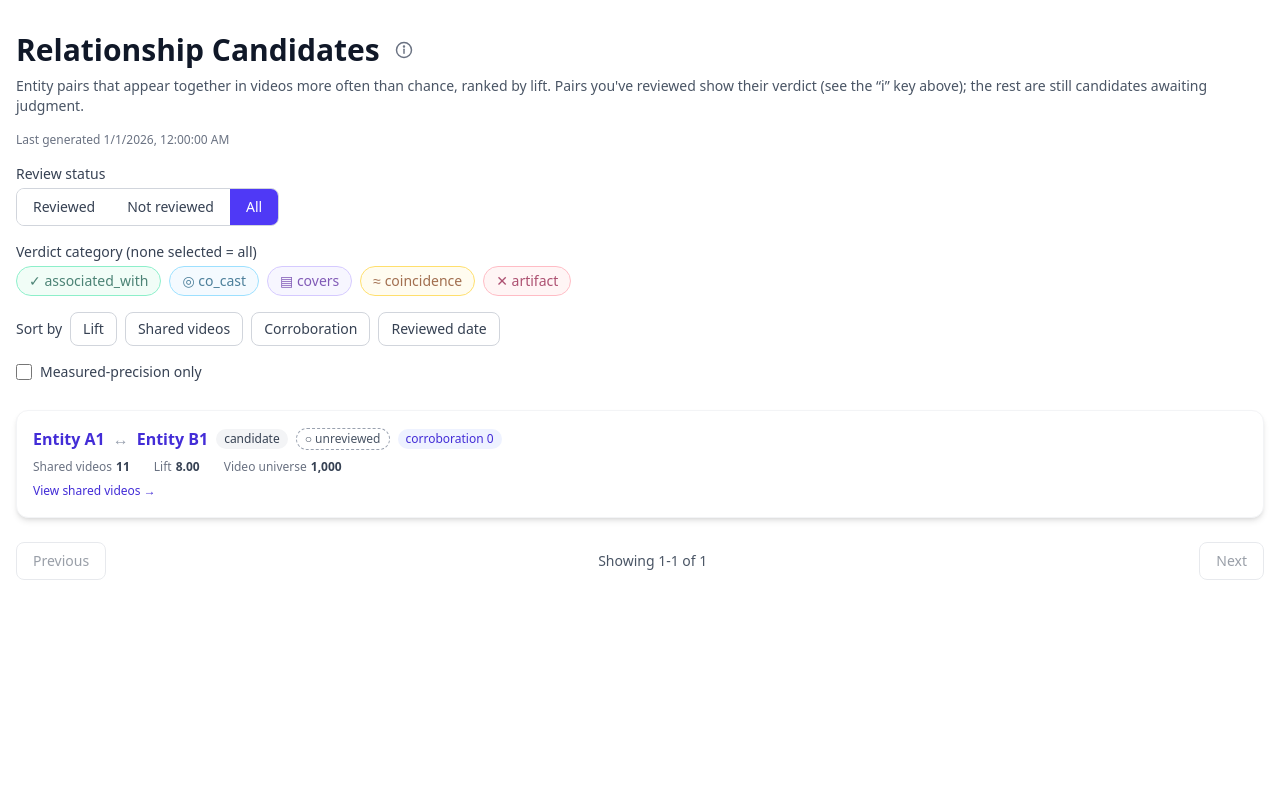
Test: RelationshipCandidatesPage › has a keyboard-operable info button that reveals lift and corroboration help, and an updated intro
Expected: the text "Pairs you.ve reviewed show their verdict" is shown, [16,76,1207,115]
Step 1. Click the button named "What do these terms mean?" → (404, 50), box [388,34,420,66]
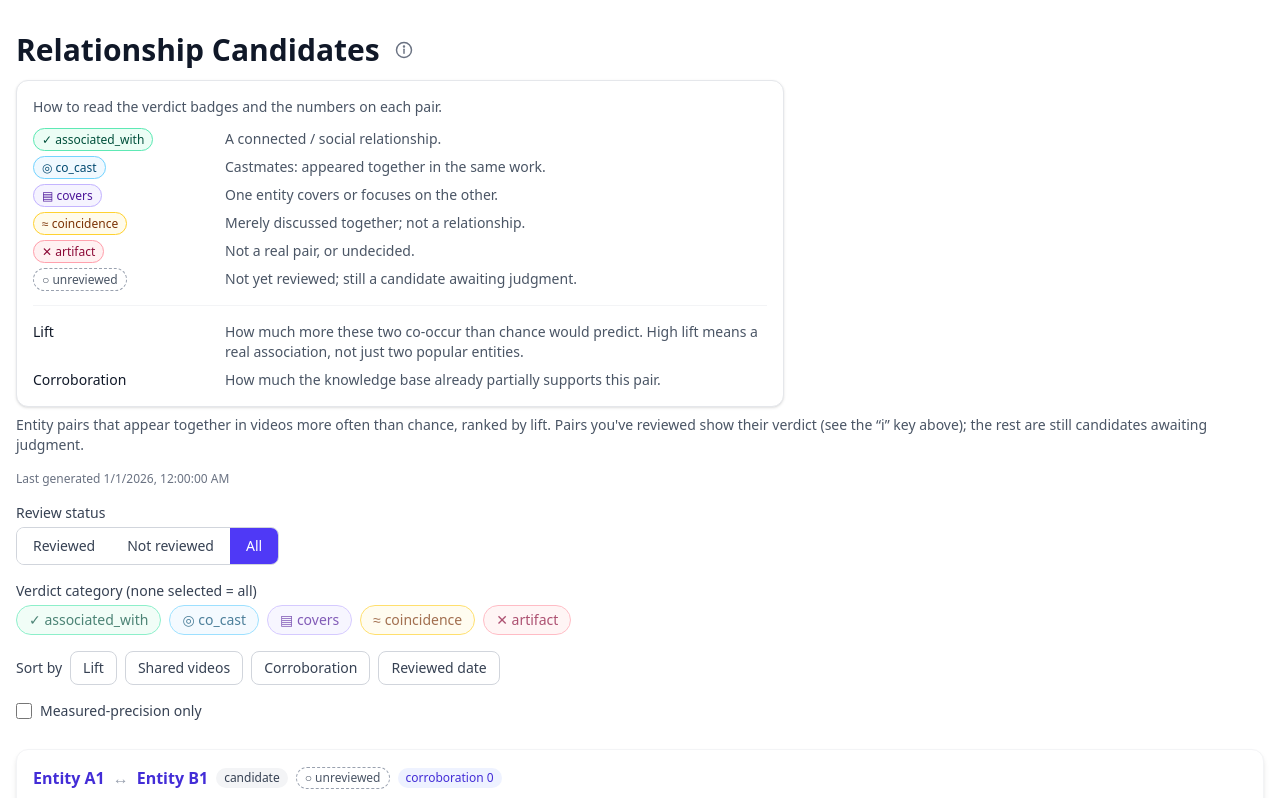
Result: the text "associated_with" is shown at [55,131,144,148]
Result: the text "co_cast" is shown at [56,159,96,176]
Result: the text "covers" is shown at [56,187,93,204]
Step 2. Press Escape in the element named "Relationship candidate key", box [16,80,784,407]
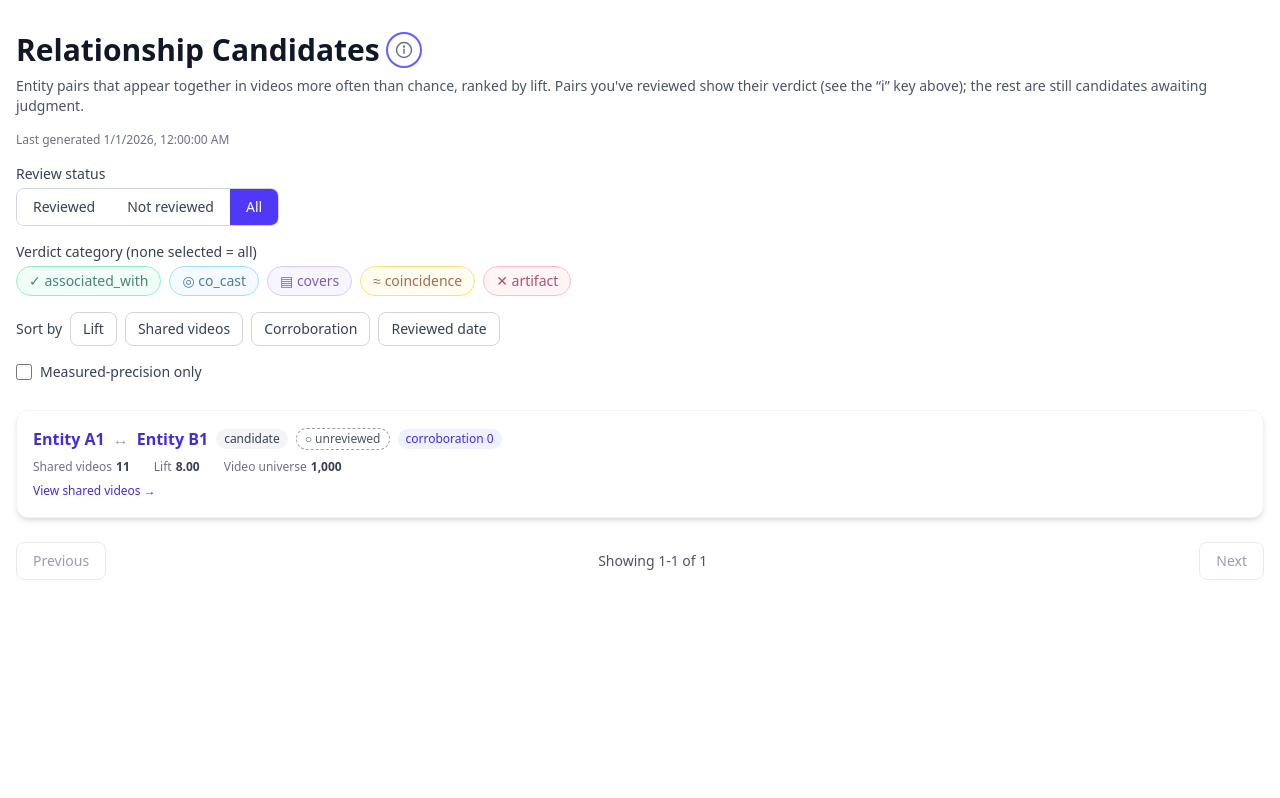
Result: the button named "What do these terms mean?" is collapsed at [388,34,420,66]
